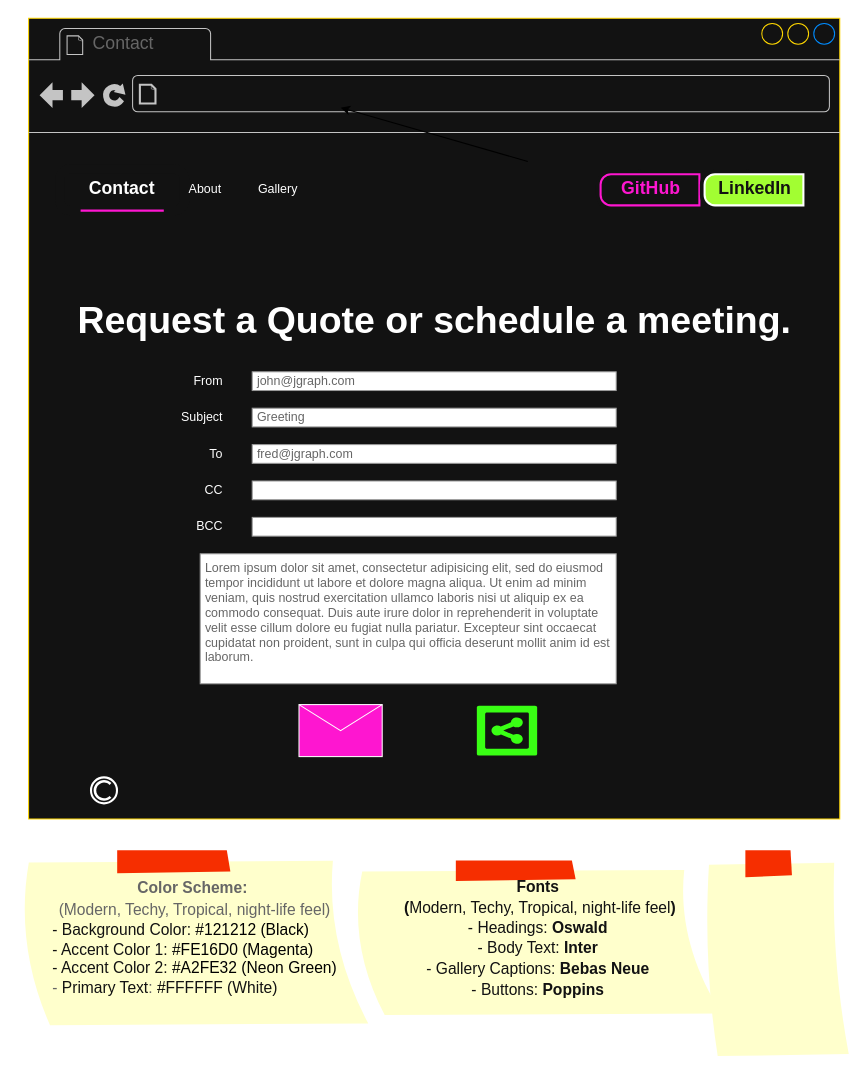
Image size: 868x1076. Some labels were removed from this diagram. The shapes that lost their labels are listed below. From the top down, each one's centre as x and y in pixels, then its label:
(293,94): https://www.draw.io
(777,953): -Email - LinkedIn - GitHub - Phone - Social Media
